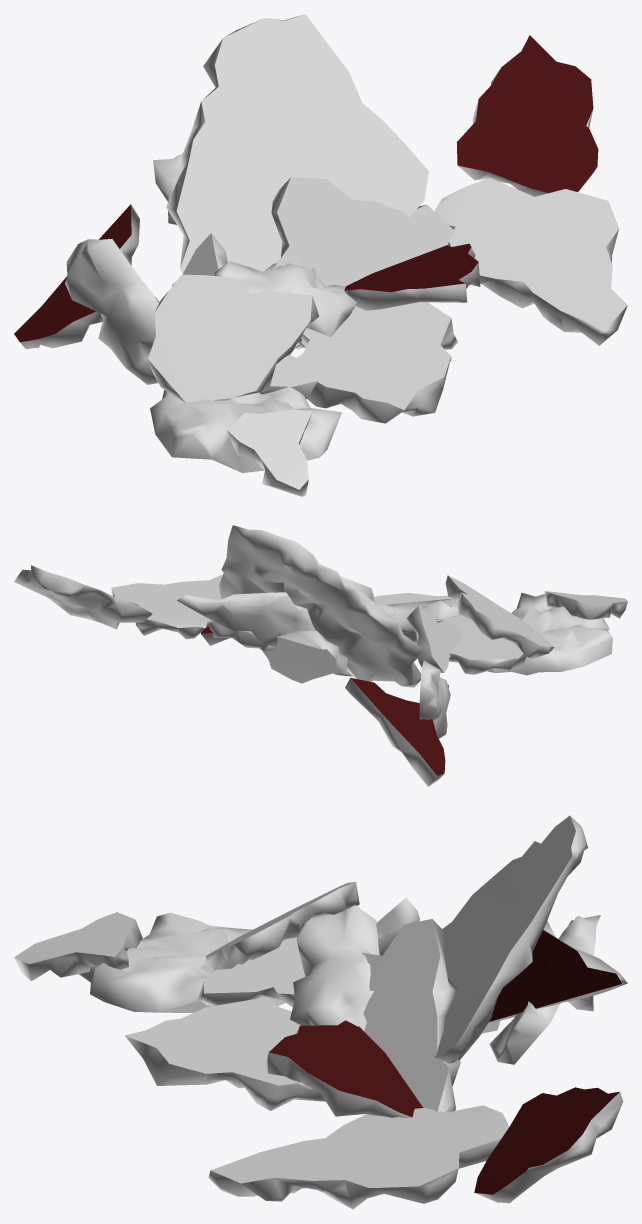
The model's file is SM_H_Building_Tide_InterrogationRoom_13H_ATLAS.fbx.
3 renders of one model, top to bottom at view 1: azimuth 30°, elevation 25°; view 2: azimuth 150°, elevation 25°; view 3: azimuth 270°, elevation 25°, orthographic. The views are drawn at different scales.
Parts seen in each view (by area): view 1: SM_H_Building_Tide_InterrogationRoom_13H_ATLAS; view 2: SM_H_Building_Tide_InterrogationRoom_13H_ATLAS; view 3: SM_H_Building_Tide_InterrogationRoom_13H_ATLAS.
Boxes of the visible parts, x1=… form: SM_H_Building_Tide_InterrogationRoom_13H_ATLAS: x1=14, y1=14, x2=627, y2=496; SM_H_Building_Tide_InterrogationRoom_13H_ATLAS: x1=14, y1=525, x2=627, y2=786; SM_H_Building_Tide_InterrogationRoom_13H_ATLAS: x1=14, y1=815, x2=627, y2=1209.
Bounding box in the file's own units: 443 × 362 × 196.
